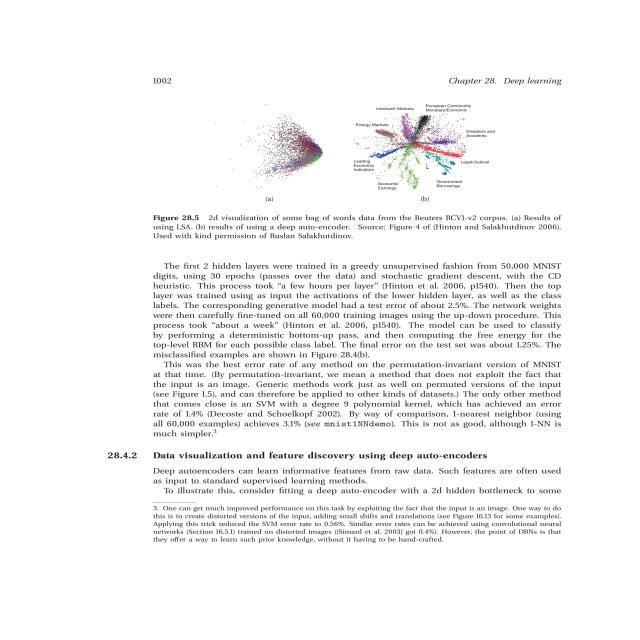diagram: (119, 72, 581, 248)
